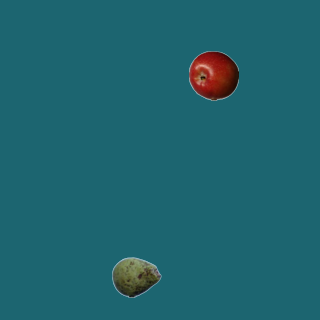Apple Braeburn: (188, 50, 238, 100)
Pear Stone: (111, 252, 161, 302)
